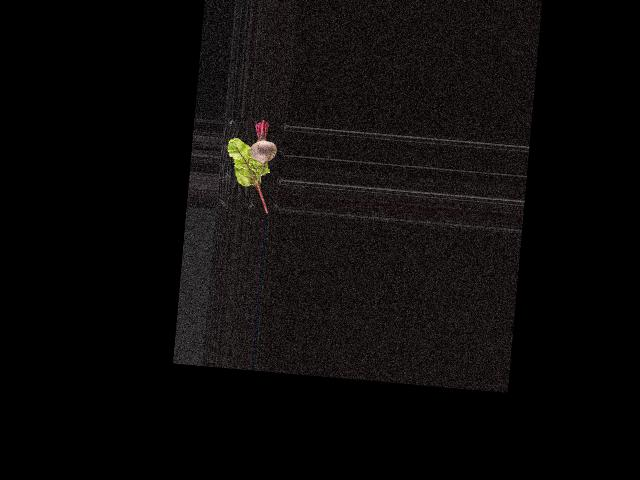beet: (247, 118, 279, 187)
